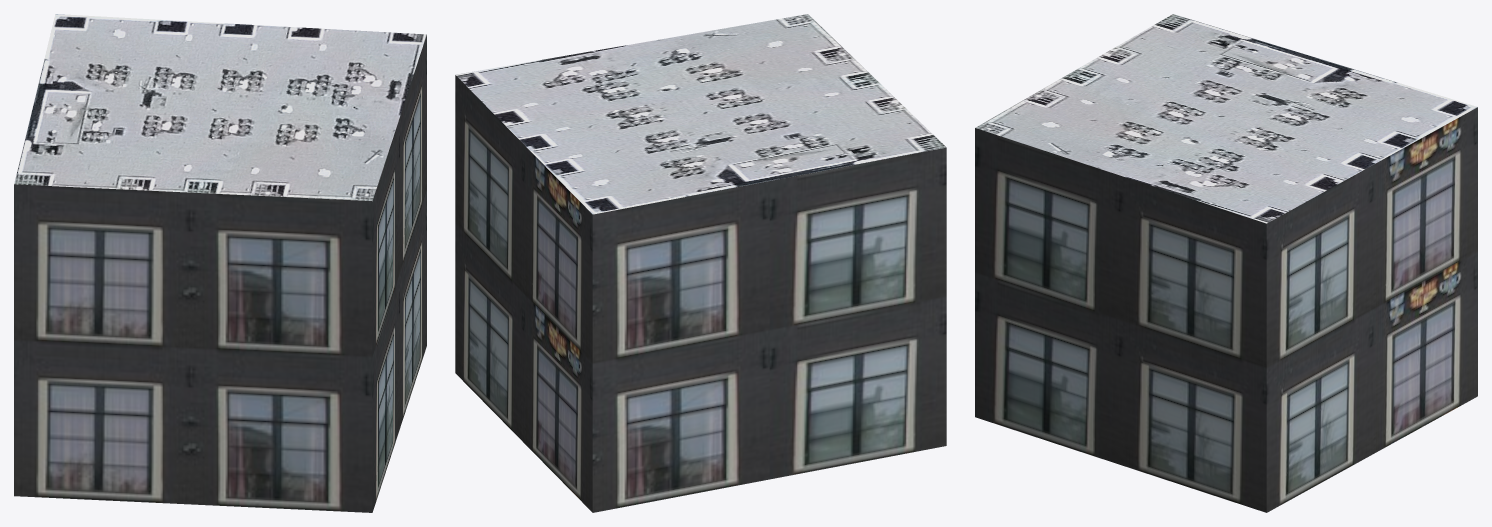
Rendered from ResTex__5046.fbx.
3 renders of one model, left to right at view 1: azimuth 30°, elevation 25°; view 2: azimuth 150°, elevation 25°; view 3: azimuth 270°, elevation 25°, orthographic. The views are drawn at different scales.
Visible parts, largest first — view 1: CityEngineMaterial_22_m, CityEngineMaterial_4_m; view 2: CityEngineMaterial_22_m, CityEngineMaterial_4_m; view 3: CityEngineMaterial_22_m, CityEngineMaterial_4_m.
Boxes of the visible parts, x1,y1,x2,y2 form: CityEngineMaterial_22_m: (14,35,426,512); CityEngineMaterial_4_m: (14,14,426,201); CityEngineMaterial_22_m: (455,75,946,512); CityEngineMaterial_4_m: (455,14,946,214); CityEngineMaterial_22_m: (975,107,1477,512); CityEngineMaterial_4_m: (975,14,1477,223).
Bounding box in the file's own units: 9.33 × 6 × 9.45.
Materials: 2 (2 with a texture image).
